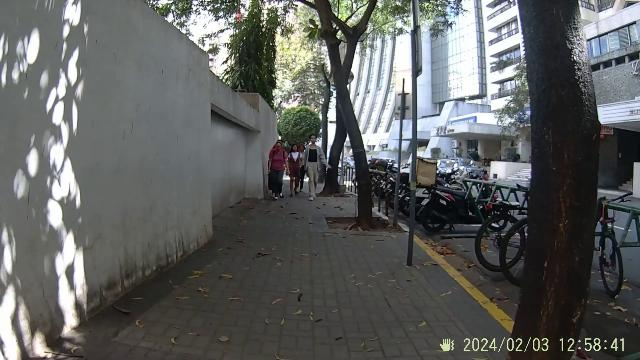street_sign: (404, 30, 430, 286), (393, 88, 413, 204)
tree: (516, 2, 610, 354), (325, 0, 385, 234)
